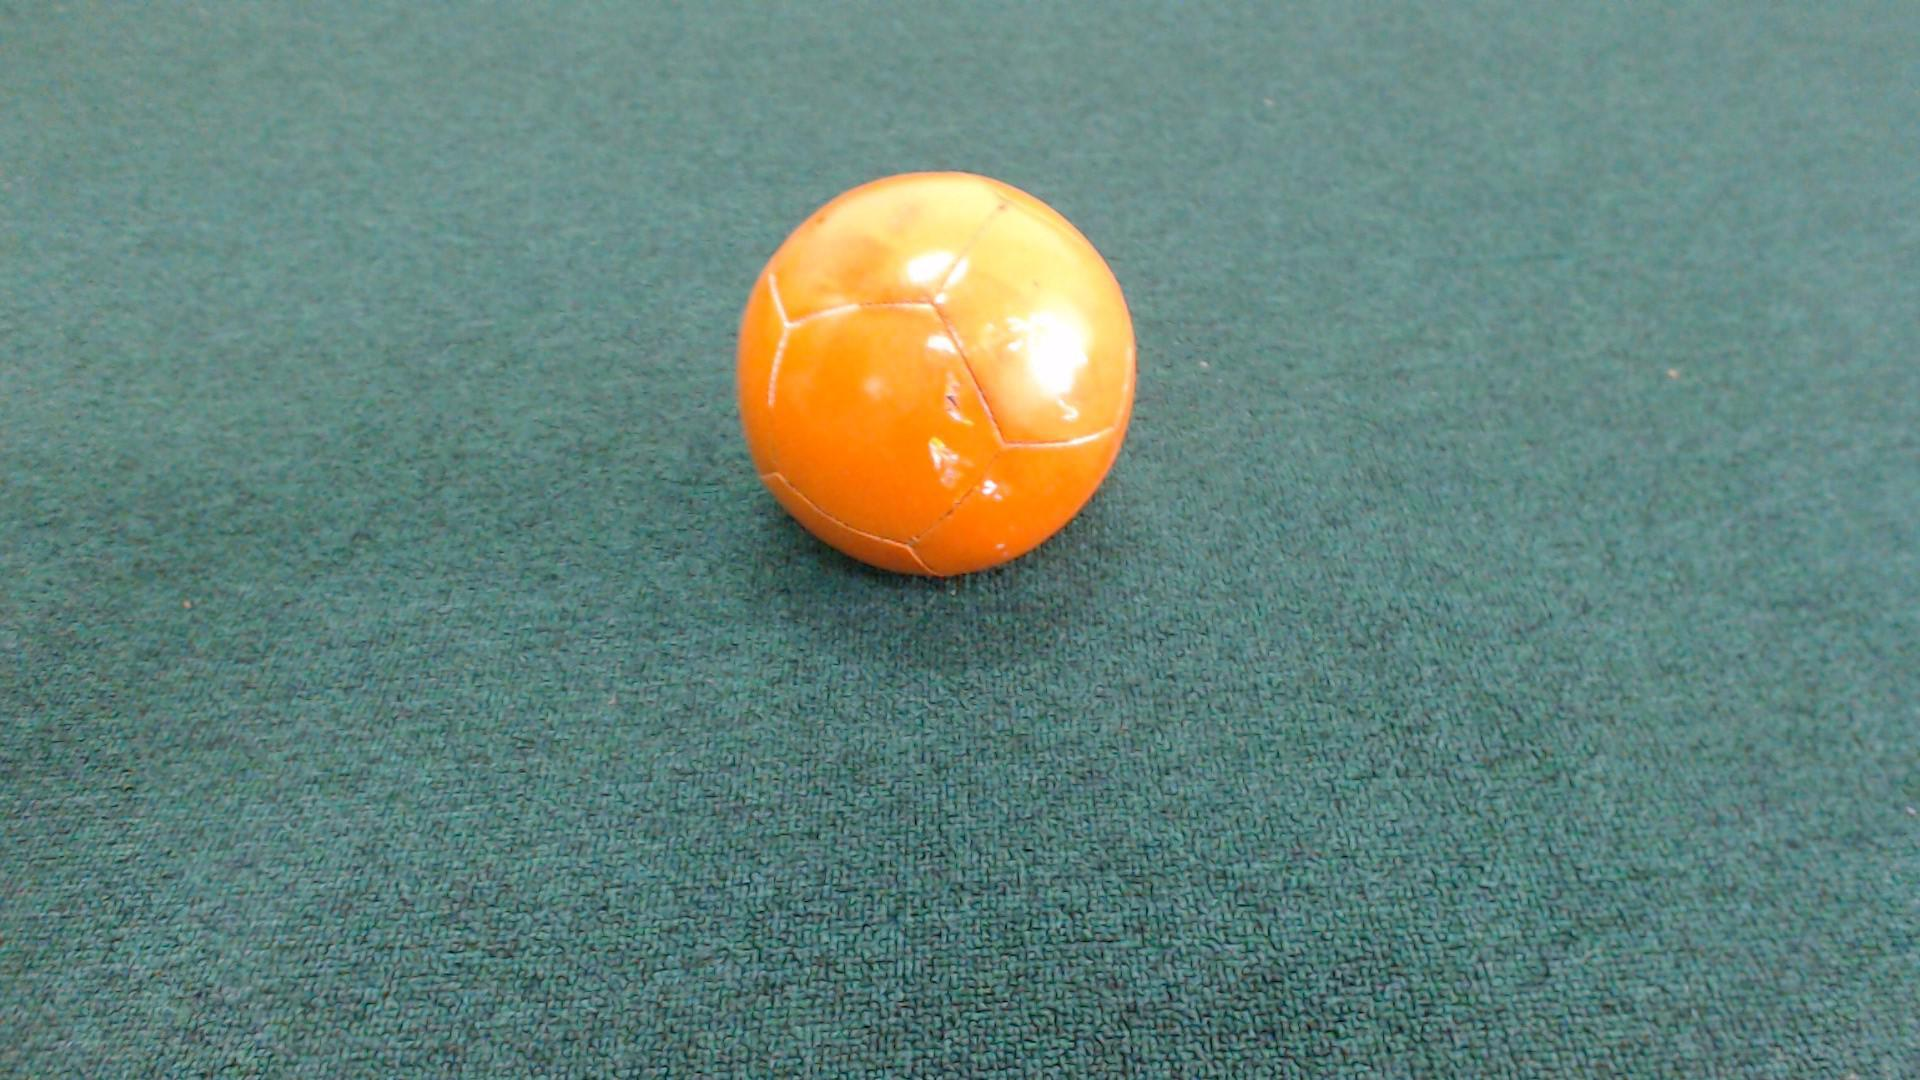bola: (683, 156, 1170, 604)
